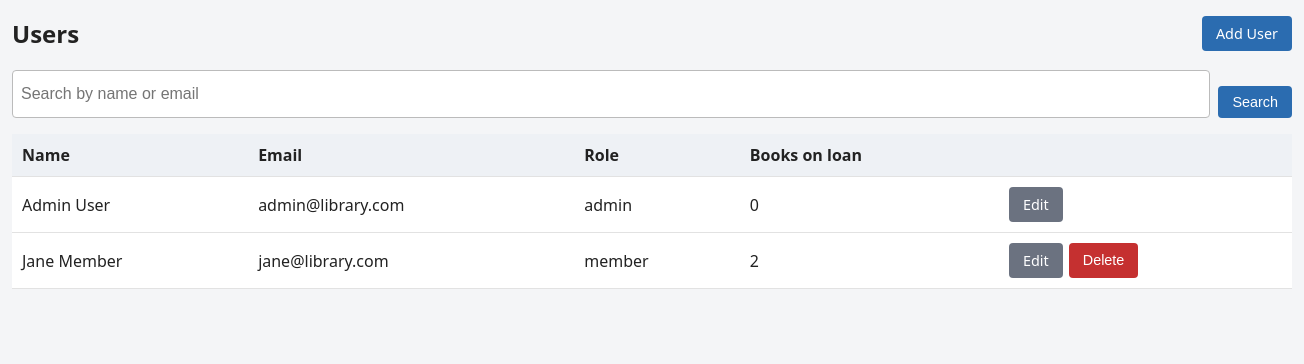
Test: UsersPage › shows the error when delete fails
Click the button "Delete": (1104, 260) [1069,243,1138,278]
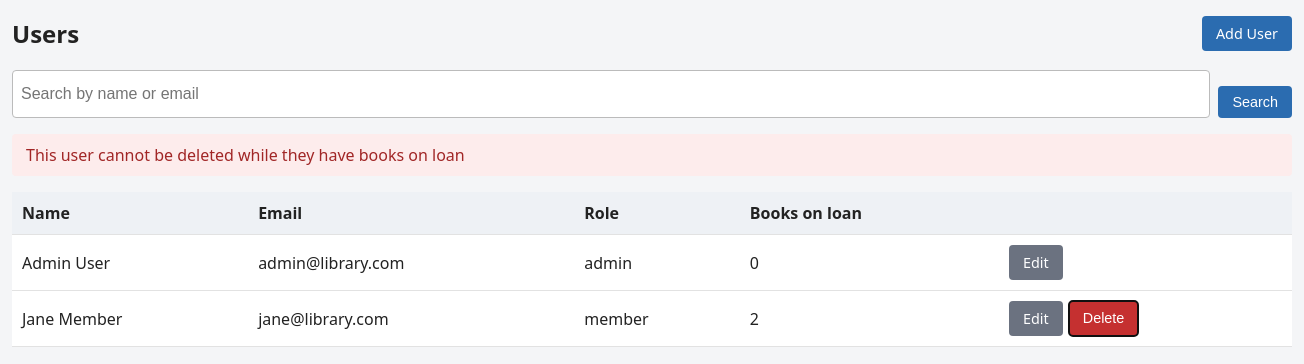
expect the message shows "books on loan": met, box [26,144,465,166]
